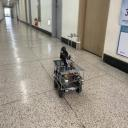cart: (53, 62, 85, 98)
